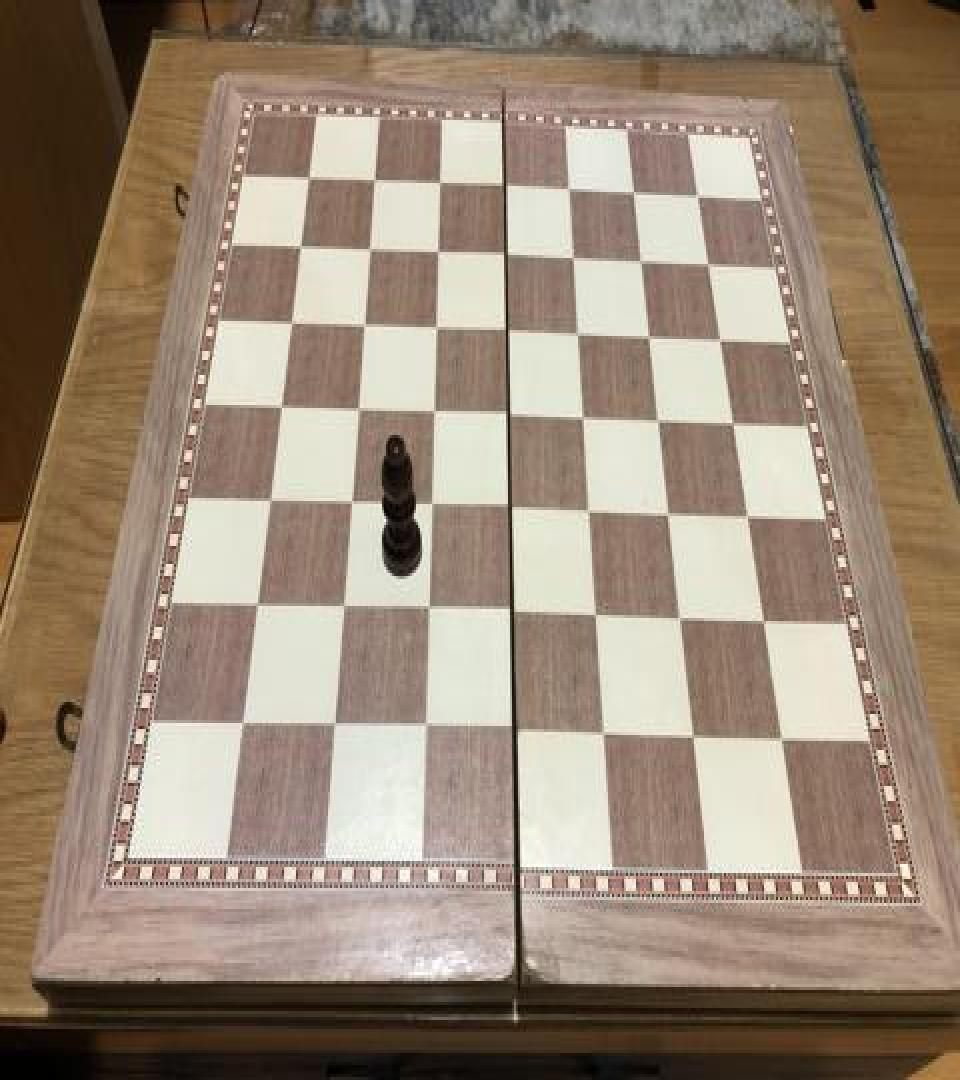xcorner: (245, 586, 269, 623), (680, 718, 704, 755), (686, 177, 710, 213), (622, 174, 646, 210), (558, 171, 582, 207), (493, 168, 517, 204), (429, 165, 453, 201), (364, 162, 388, 198), (299, 159, 323, 195), (696, 246, 720, 282), (629, 243, 653, 279), (562, 240, 586, 276), (494, 237, 518, 273), (427, 234, 451, 270), (358, 231, 382, 267), (290, 228, 314, 264), (708, 321, 732, 357), (637, 318, 661, 354), (567, 315, 591, 351), (496, 312, 520, 348), (424, 309, 448, 345), (353, 306, 377, 342), (280, 303, 304, 339), (720, 405, 744, 441), (646, 402, 670, 438), (572, 399, 596, 435), (497, 396, 521, 432), (422, 393, 446, 429), (346, 390, 370, 426), (270, 387, 294, 423), (735, 498, 759, 534), (656, 495, 680, 531), (578, 492, 602, 528), (498, 489, 522, 525), (419, 488, 443, 524), (339, 484, 363, 520), (258, 482, 282, 518), (751, 603, 775, 639), (668, 600, 692, 636), (584, 597, 608, 633), (500, 594, 524, 630), (415, 592, 439, 628), (330, 590, 354, 626), (769, 720, 793, 756), (591, 716, 615, 752), (502, 714, 526, 750), (412, 711, 436, 747), (321, 708, 345, 744), (230, 706, 254, 742)
